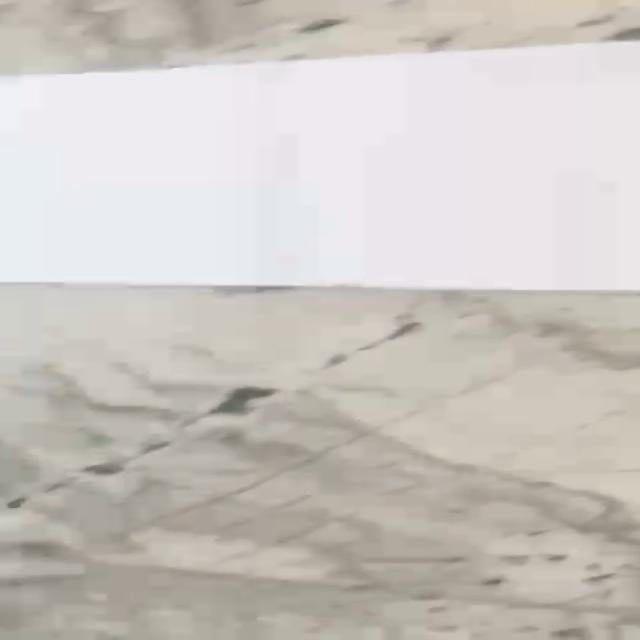road: (0, 40, 640, 292)
